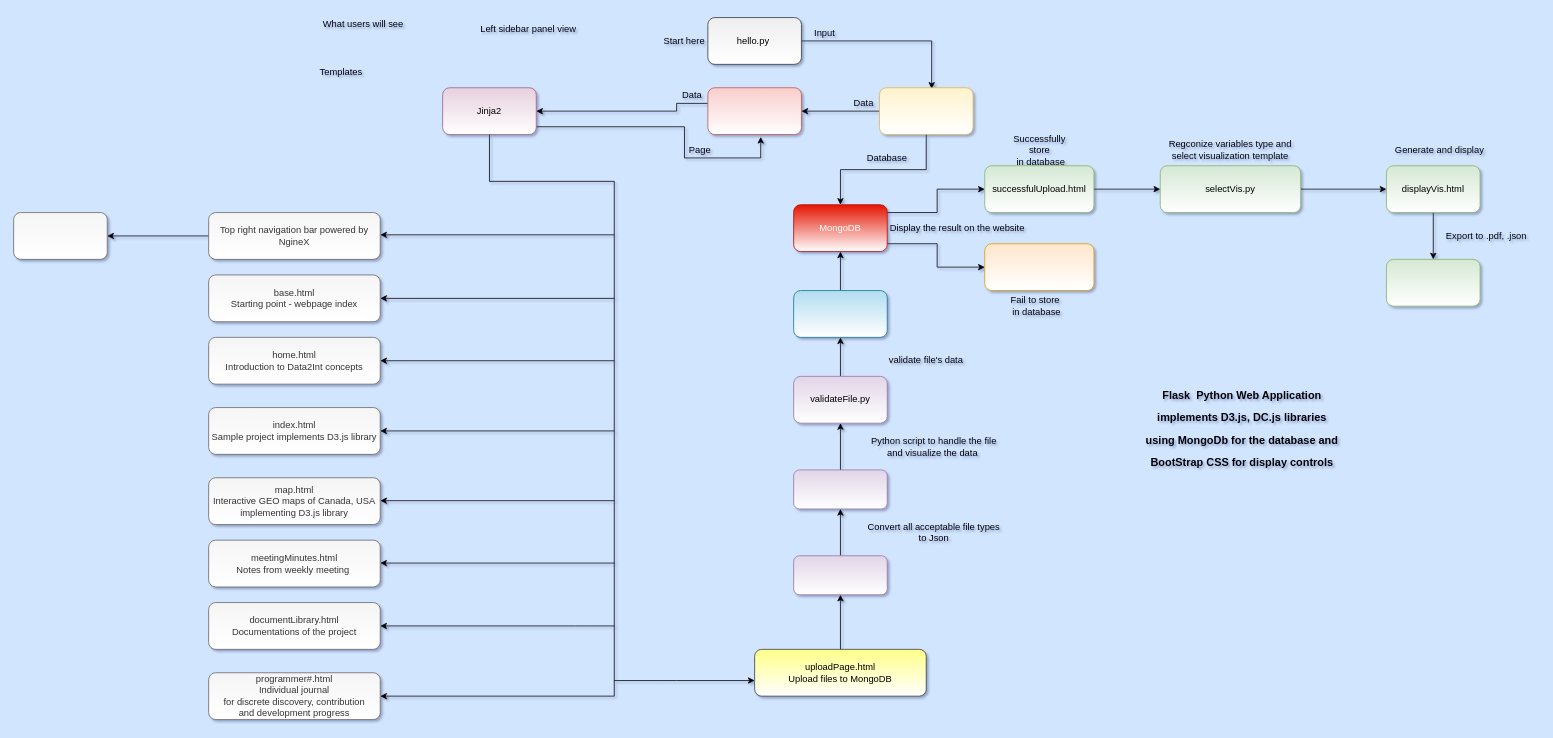
This 1553x738 diagram has some shape labels left out. The shapes that lost their labels are listed below. From the top down, each one's centre as x and y in pixels, then its label:
At (754,111): "Flask".
At (926,111): "Python".
At (60,235): "All webpages with research and documentation on learning".
At (1039,267): "errorFileUpload.html".
At (1433,282): "exportFile.html".
At (840,313): "PyMongo".
At (840,489): "jsonUpload.py".
At (840,575): "convertToJson.py".
